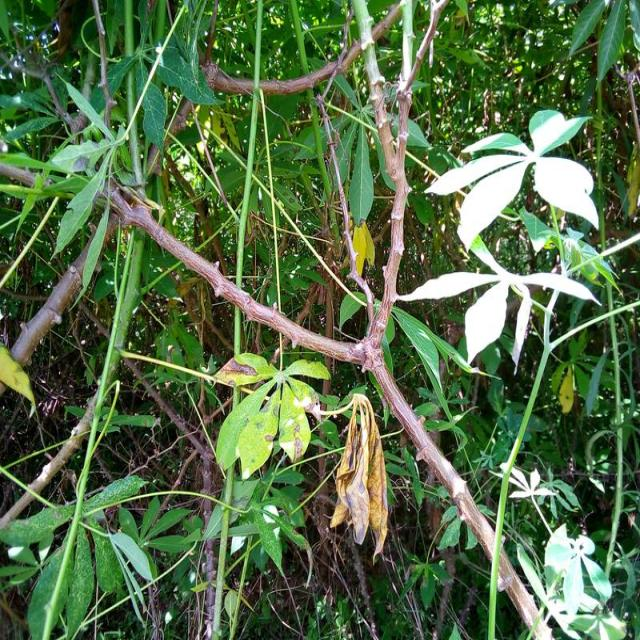cassava leaf: (425, 106, 600, 252), (213, 351, 332, 479)
